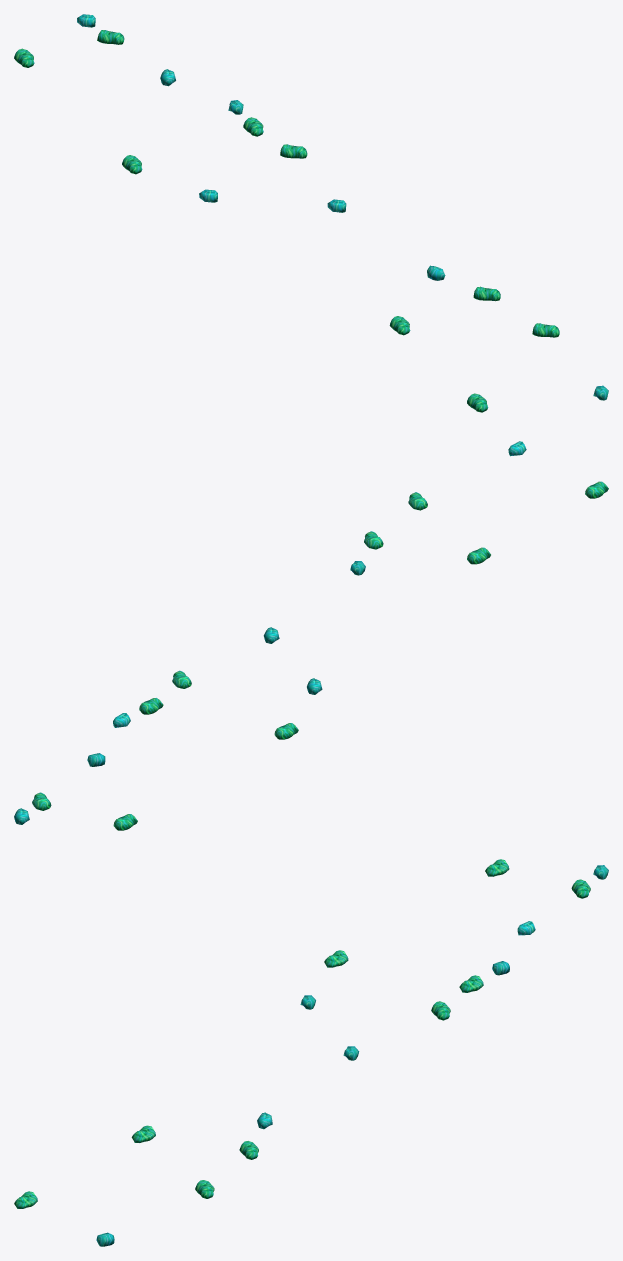
The model's file is stoneC.fbx.
3 renders of one model, top to bottom at view 1: azimuth 30°, elevation 25°; view 2: azimuth 150°, elevation 25°; view 3: azimuth 330°, elevation 25°, orthographic.
Parts seen in each view (by area): view 1: stoneC; view 2: stoneC; view 3: stoneC.
Part boxes in pixels (x1,y1,x2,y2): stoneC: (14, 14, 608, 412); stoneC: (14, 441, 608, 830); stoneC: (14, 859, 608, 1246).
Size of the model in its own units: 816 by 57.73 by 4624.
